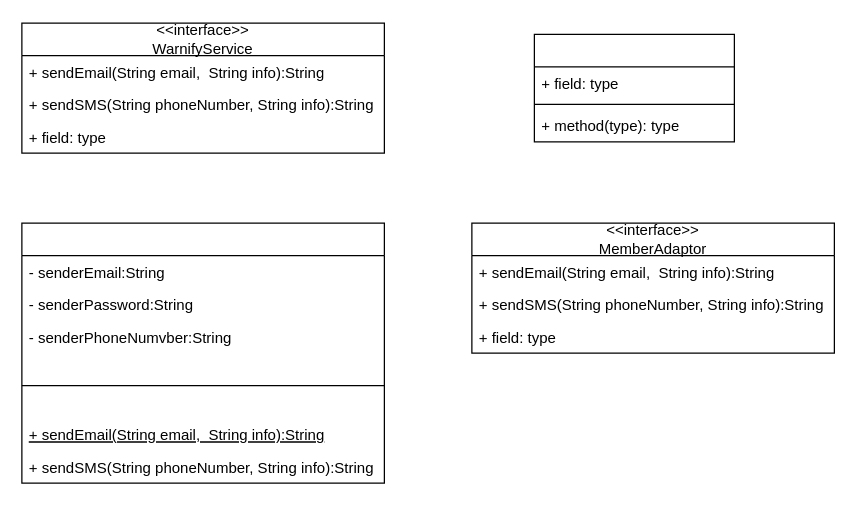
Some shapes in this 856 by 509 pixel diagram are drawn without their labels. Each missing label, with the box of its shape:
Advice: (533, 33, 734, 142)
WarnifyServiceImpl: (21, 222, 384, 483)
